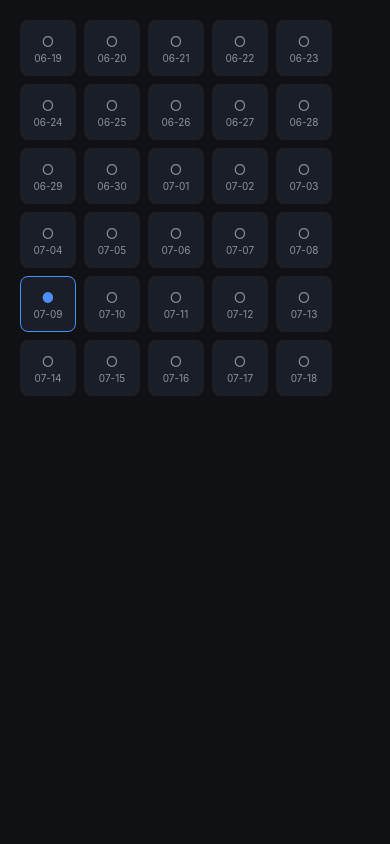
ArchiveContainer › handles empty s3_key without crashing
The width and height of the screenshot is (390, 844).
Click the element with test id "heatmap-cell-2026-07-09": [48, 304] box [16,272,80,336]
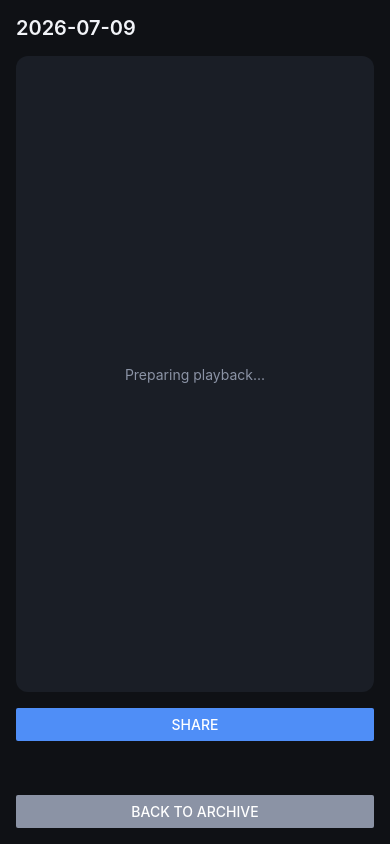
Now the button labelled "Back to archive" is shown, box [16,795,374,828]
